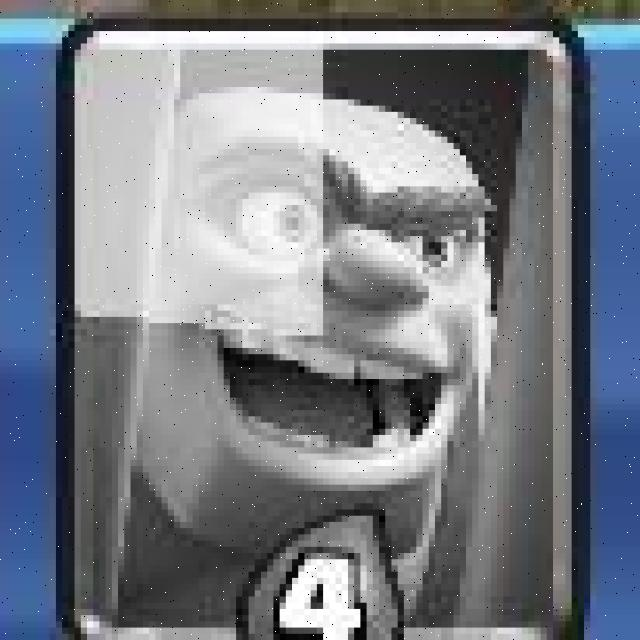Goblin_Cage: (58, 21, 574, 640)
